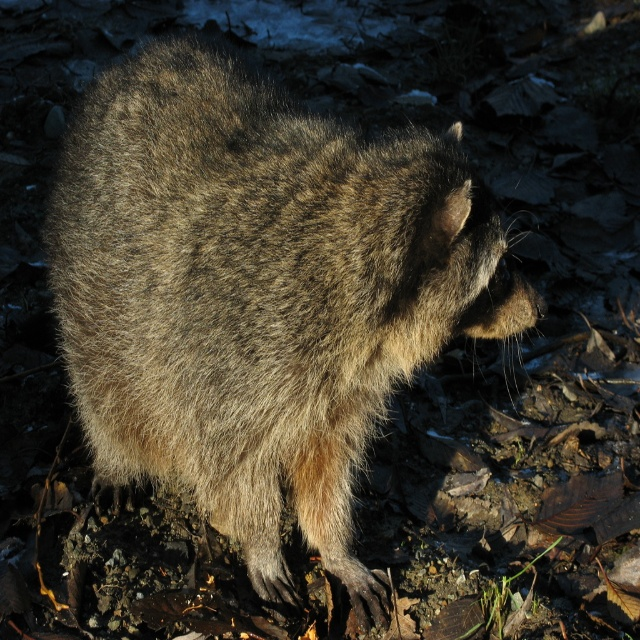Raccoon: (42, 28, 549, 631)
